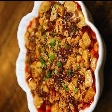mapodoufu: (21, 1, 99, 112)
